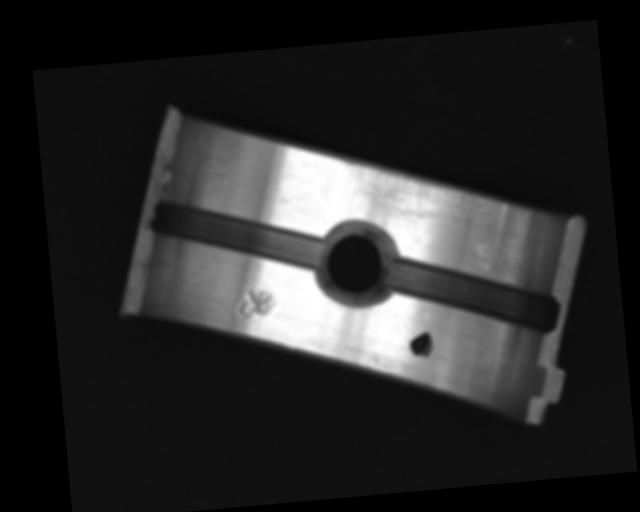blot: (408, 330, 435, 360)
bruise: (236, 286, 277, 320), (473, 240, 493, 274)
gap: (384, 247, 560, 347), (149, 188, 325, 283)
hole: (313, 219, 402, 309)
scratch: (337, 146, 483, 229)
